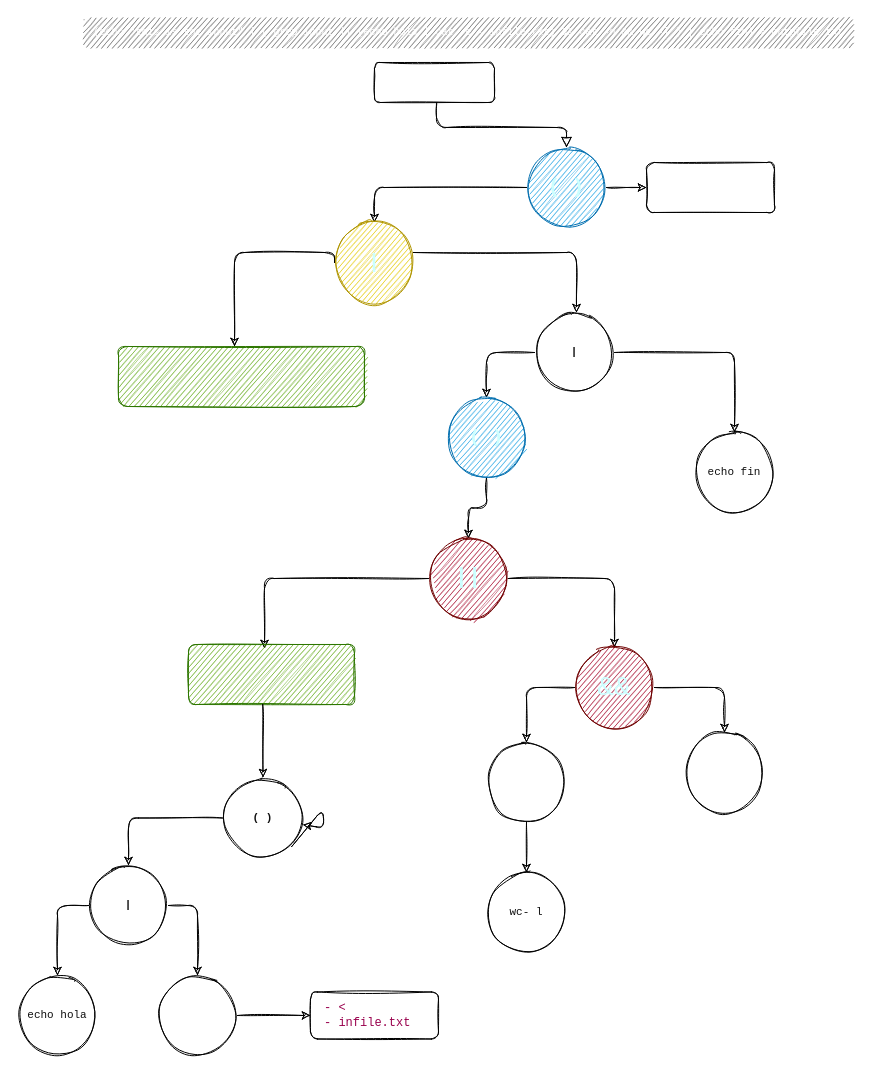
The diagram is 871 pixels wide and 1073 high, and some of its shapes have lost their labels. Here are the shapes that lost their labels. From the top down, the centre of each, then its label:
pixel 434 82: input
pixel 710 187: - > - outpfile.txt
pixel 241 376: echo "this is the input"
pixel 271 674: grep input
pixel 526 782: cat - n
pixel 724 772: NULL
pixel 197 1015: cat - e
